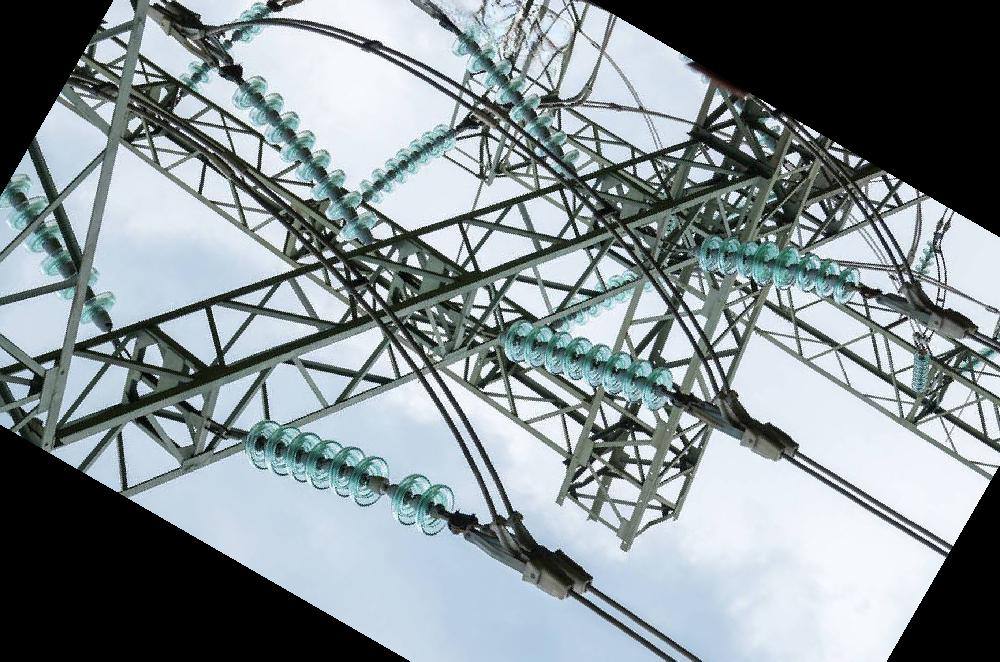insulator: (240, 415, 463, 541), (226, 70, 380, 244), (448, 22, 581, 171), (1, 168, 119, 330), (501, 316, 680, 412), (697, 233, 864, 308), (357, 121, 459, 204), (567, 267, 642, 326), (229, 1, 276, 47), (174, 58, 215, 93), (913, 236, 942, 278), (907, 349, 932, 395)
insulator_stringdrop: (346, 454, 433, 530)
